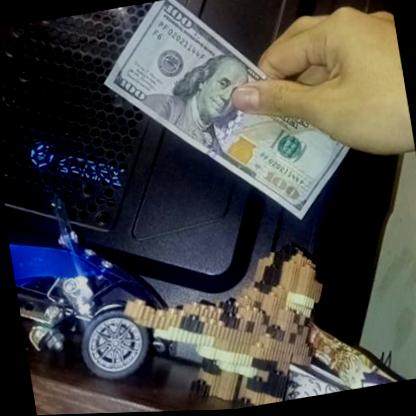dollar_front: (90, 0, 359, 250)
